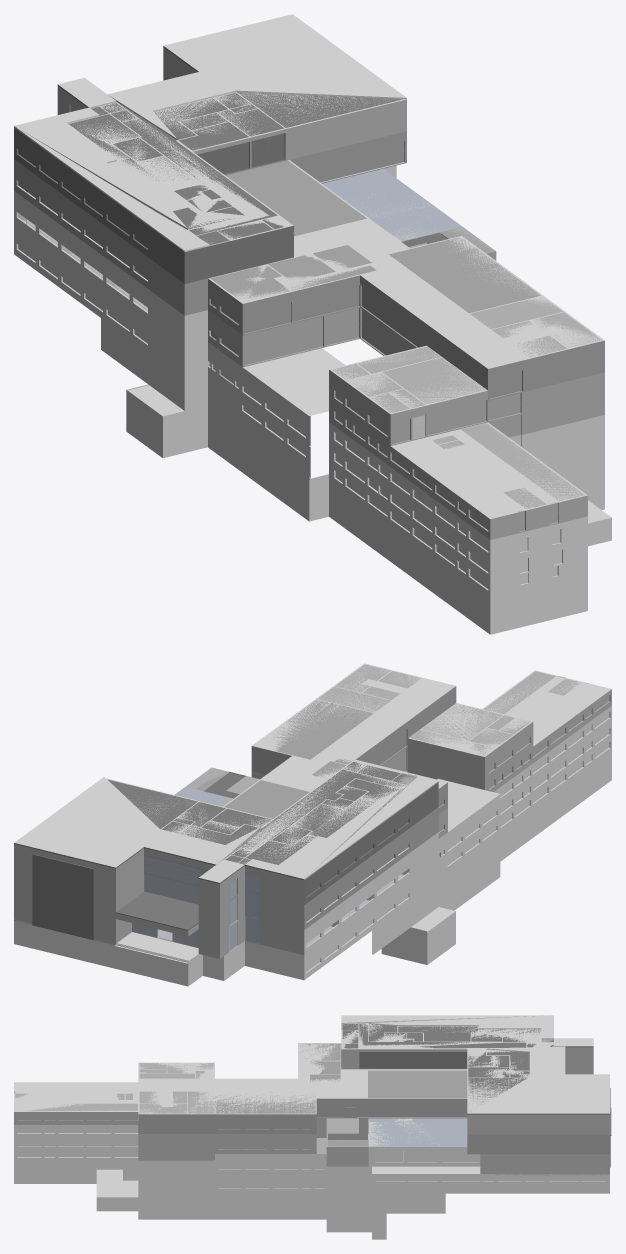
The model's file is OZU 3D.fbx.
3 views of the same model, one above another, from view 1: azimuth 30°, elevation 25°; view 2: azimuth 150°, elevation 25°; view 3: azimuth 270°, elevation 25° (orthographic). The views are drawn at different scales.
Visible parts, largest first — view 1: POLYFACE.3659, POLYFACE.1829, POLYFACE.3417, POLYFACE.2909, POLYFACE.1714, POLYFACE.1004, POLYFACE.1003, POLYFACE.3420, POLYFACE.2490, POLYFACE.2491, POLYFACE.2489, POLYFACE.2910 (+4 smaller); view 2: POLYFACE.3659, POLYFACE.1829, POLYFACE.3417, POLYFACE.2909, POLYFACE.790, POLYFACE.1003, POLYFACE.2910, Cube.008, POLYFACE.1004, POLYFACE.1714, POLYFACE.3420, POLYFACE.2490 (+7 smaller); view 3: POLYFACE.3659, POLYFACE.1829, POLYFACE.3417, POLYFACE.2909, POLYFACE.2910, POLYFACE.1004, POLYFACE.2641, POLYFACE.1003, POLYFACE.3425, POLYFACE.1005, POLYFACE.2912, POLYFACE.1725 (+9 smaller).
Boxes of the visible parts, x1,y1,x2,y2 form: POLYFACE.3659: [14, 46, 604, 539]; POLYFACE.1829: [14, 223, 611, 634]; POLYFACE.3417: [14, 14, 406, 251]; POLYFACE.2909: [285, 160, 560, 368]; POLYFACE.1714: [243, 348, 344, 415]; POLYFACE.1004: [419, 429, 558, 512]; POLYFACE.1003: [391, 439, 518, 519]; POLYFACE.3420: [108, 156, 201, 210]; POLYFACE.2490: [60, 225, 105, 288]; POLYFACE.2491: [14, 191, 59, 255]; POLYFACE.2489: [105, 258, 149, 321]; POLYFACE.2910: [387, 236, 542, 313]; POLYFACE.3659: [14, 664, 611, 958]; POLYFACE.1829: [14, 706, 611, 986]; POLYFACE.3417: [14, 769, 438, 882]; POLYFACE.2909: [223, 678, 455, 806]; POLYFACE.790: [421, 703, 503, 740]; POLYFACE.1003: [533, 683, 611, 746]; POLYFACE.2910: [252, 699, 374, 760]; Cube.008: [114, 932, 199, 963]; POLYFACE.1004: [505, 676, 589, 724]; POLYFACE.1714: [437, 778, 499, 831]; POLYFACE.3420: [291, 797, 376, 836]; POLYFACE.2490: [340, 878, 376, 928]; POLYFACE.3659: [14, 1023, 610, 1175]; POLYFACE.1829: [14, 1125, 609, 1239]; POLYFACE.3417: [341, 1015, 609, 1113]; POLYFACE.2909: [138, 1067, 467, 1106]; POLYFACE.2910: [215, 1091, 316, 1114]; POLYFACE.1004: [14, 1091, 138, 1103]; POLYFACE.2641: [368, 1118, 480, 1166]; POLYFACE.1003: [14, 1082, 138, 1090]; POLYFACE.3425: [478, 1029, 541, 1042]; POLYFACE.1005: [14, 1103, 138, 1111]; POLYFACE.2912: [298, 1043, 340, 1060]; POLYFACE.1725: [372, 1166, 440, 1173].
Bounding box in the file's own units: 5690 × 3183 × 13700.
